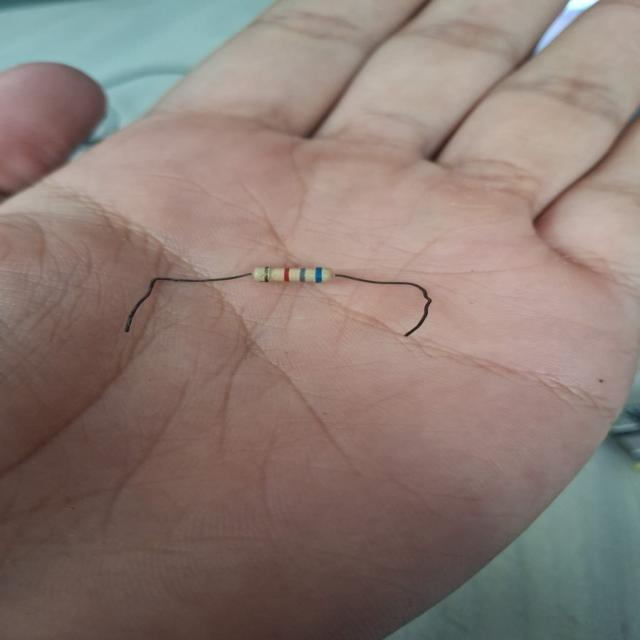Resistencia: (124, 266, 432, 337)
